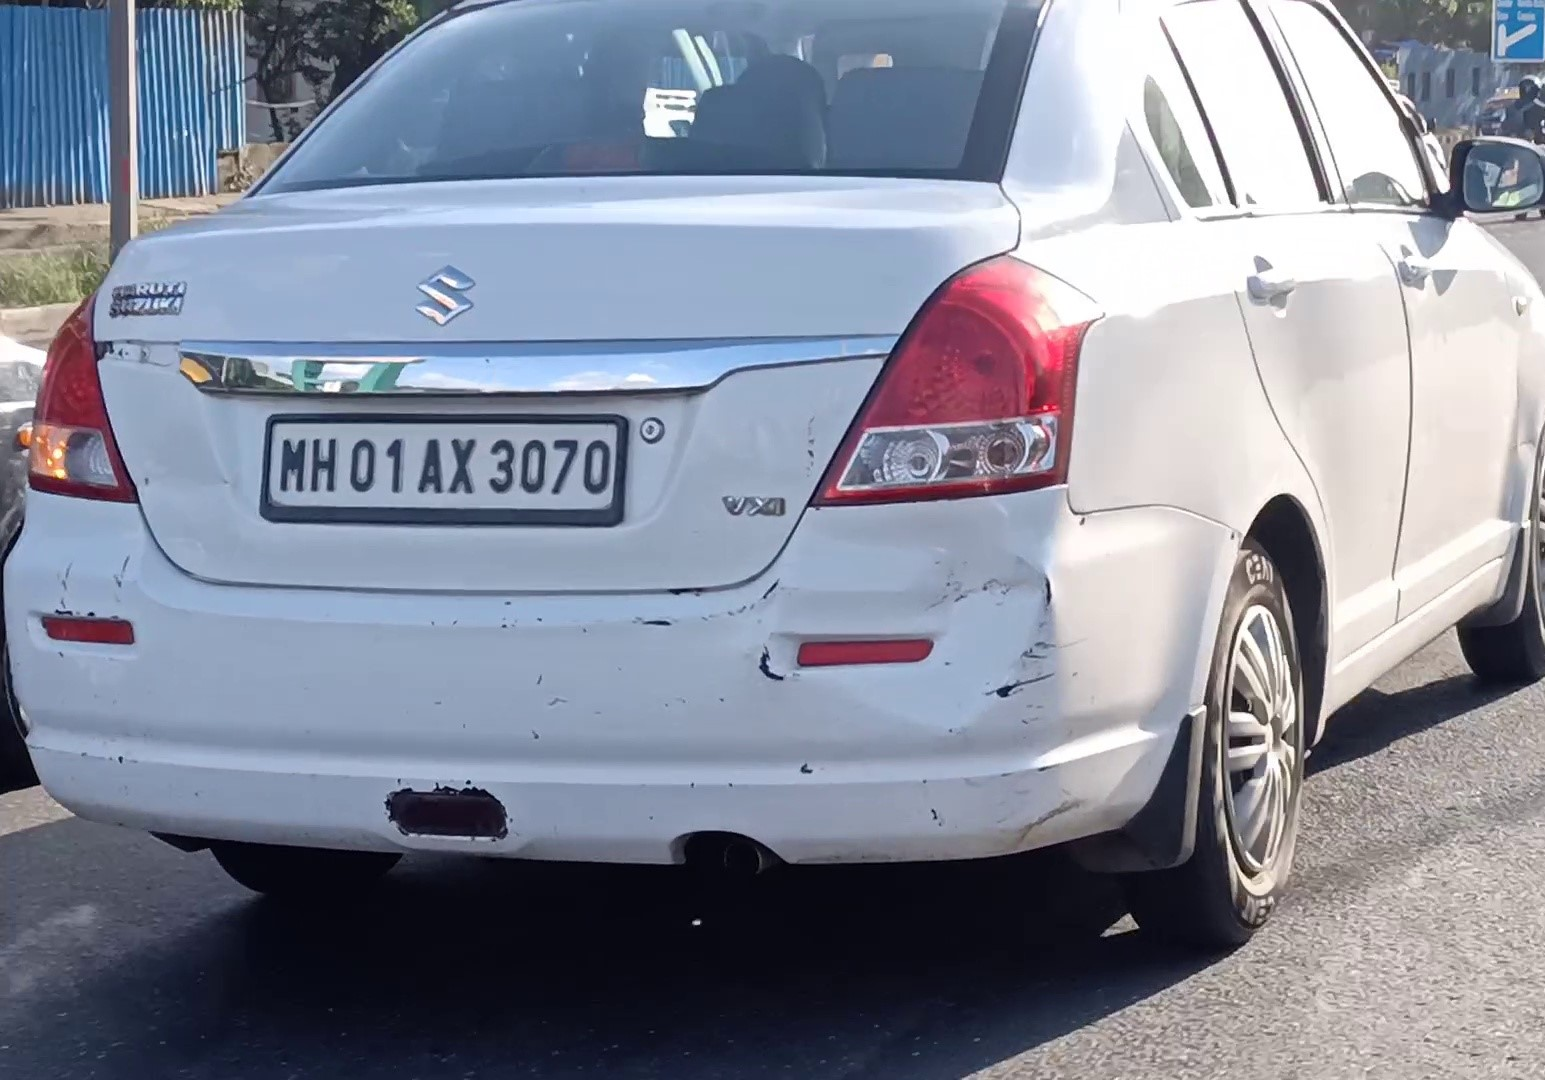MH01AX3070: (267, 416, 614, 512)
